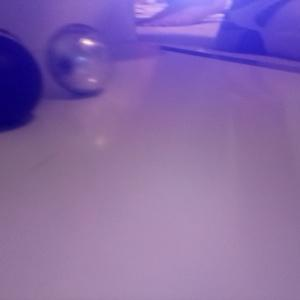alive_ball: (45, 23, 112, 93)
dead_ball: (1, 35, 42, 128)
